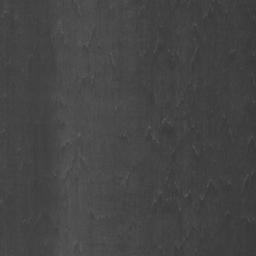Silk spot: (67, 0, 256, 256), (0, 101, 105, 256), (0, 0, 77, 94), (74, 230, 105, 254), (0, 221, 16, 253), (63, 0, 84, 18)
